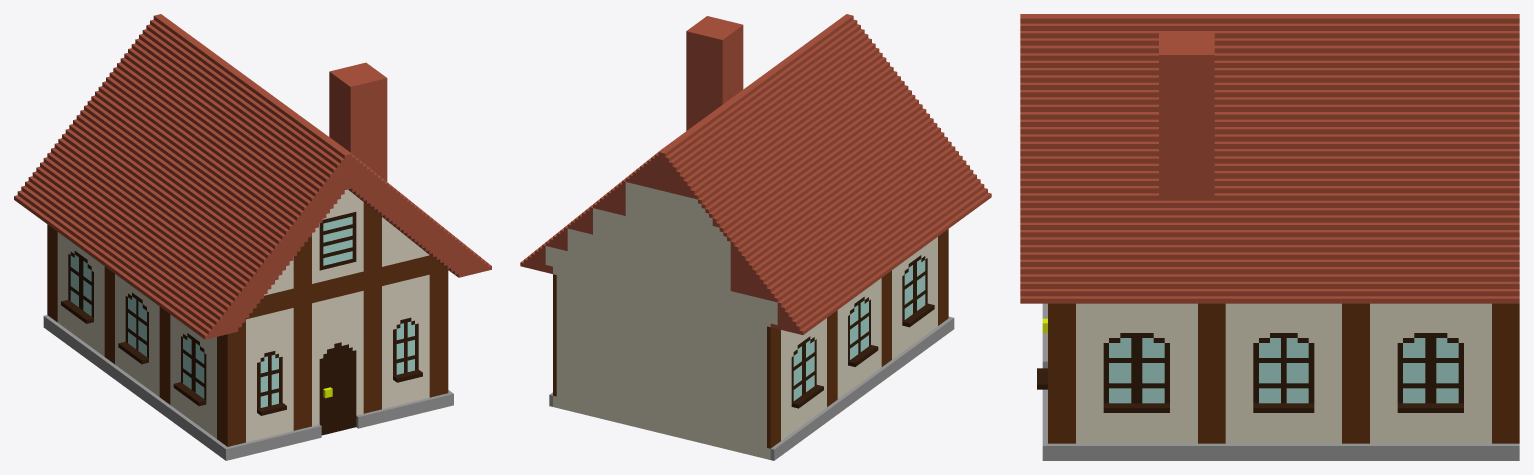
Rendered from house.obj.
The picture shows the model from 3 angles, left to right: view 1: azimuth 30°, elevation 25°; view 2: azimuth 150°, elevation 25°; view 3: azimuth 270°, elevation 25°; orthographic projection. The views are drawn at different scales.
Bounding box in the file's own units: 7.8 × 7.8 × 9.
1 material, 1 textured.
